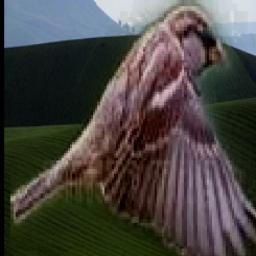Sparrow: (10, 0, 256, 256)
